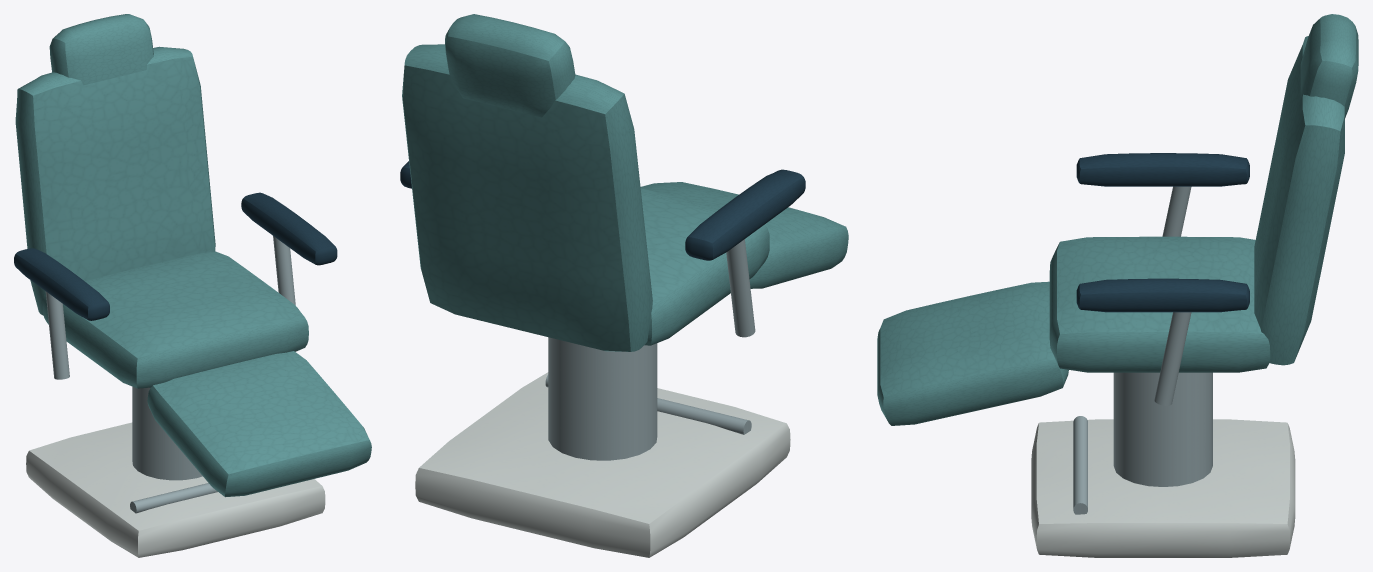
The model's file is ent-chair.glb.
3 views of the same model, side by side, from view 1: azimuth 30°, elevation 25°; view 2: azimuth 150°, elevation 25°; view 3: azimuth 270°, elevation 25° (orthographic). The views are drawn at different scales.
Visible parts, largest first — view 1: ent-chair; view 2: ent-chair; view 3: ent-chair.
Boxes of the visible parts, <box> form: ent-chair: <box>14,14,371,557</box>; ent-chair: <box>400,14,848,557</box>; ent-chair: <box>877,14,1358,557</box>.
Bounding box in the file's own units: 0.805 × 1.29 × 1.17.
11 materials, 11 textured.
